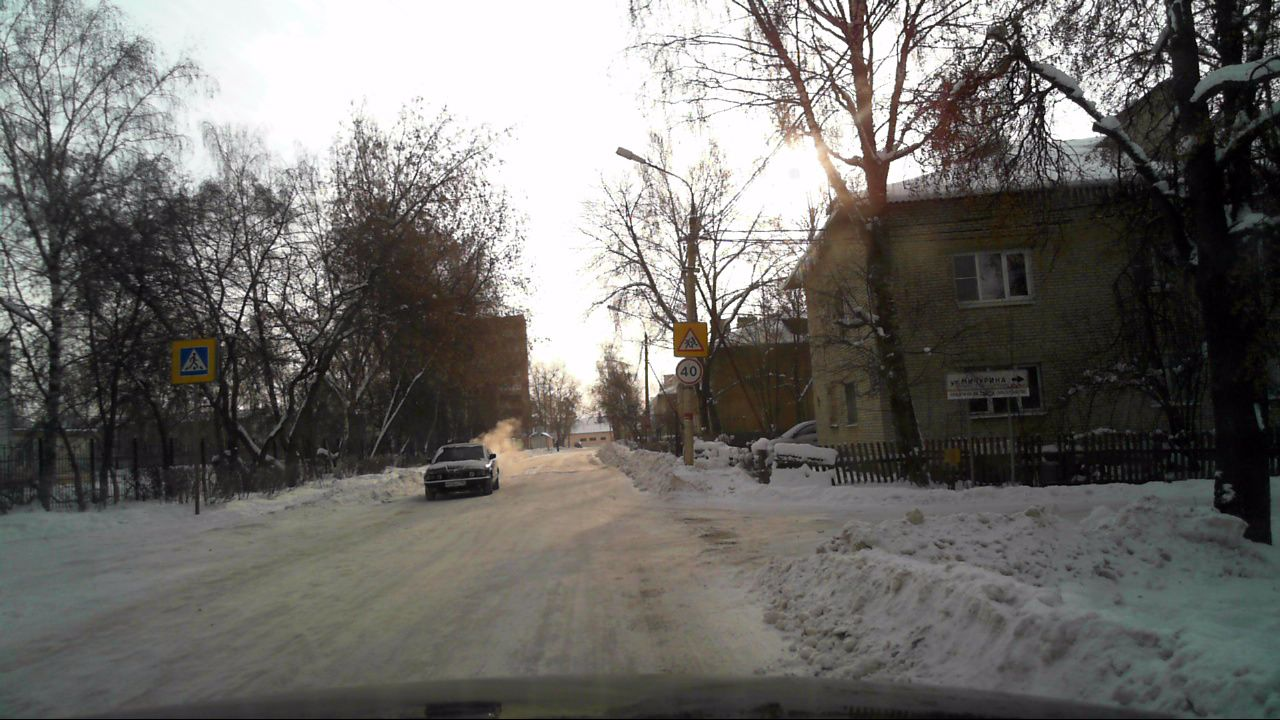speed_warning_40: (675, 359, 701, 384)
